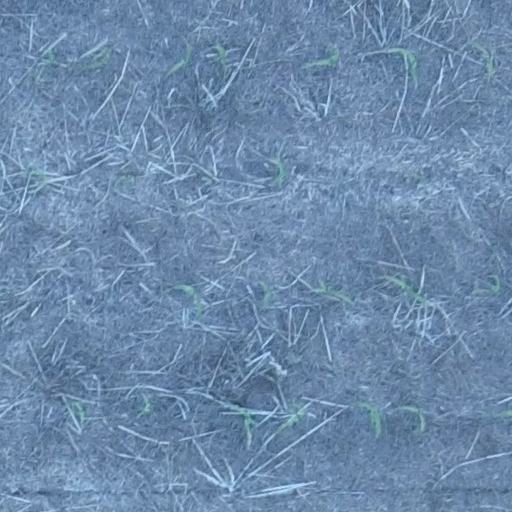planta: (383, 274, 426, 304), (469, 38, 496, 75), (356, 401, 383, 438), (226, 401, 256, 433), (176, 283, 203, 316), (392, 46, 419, 78), (275, 405, 307, 431), (313, 280, 351, 301), (168, 42, 192, 74), (405, 164, 429, 190), (312, 46, 340, 66), (474, 275, 502, 295), (268, 156, 287, 184), (406, 405, 425, 432), (86, 49, 110, 70), (28, 168, 48, 193), (113, 171, 136, 188), (136, 391, 150, 418), (212, 44, 228, 66), (40, 50, 56, 70), (71, 401, 86, 422), (260, 283, 271, 307)
